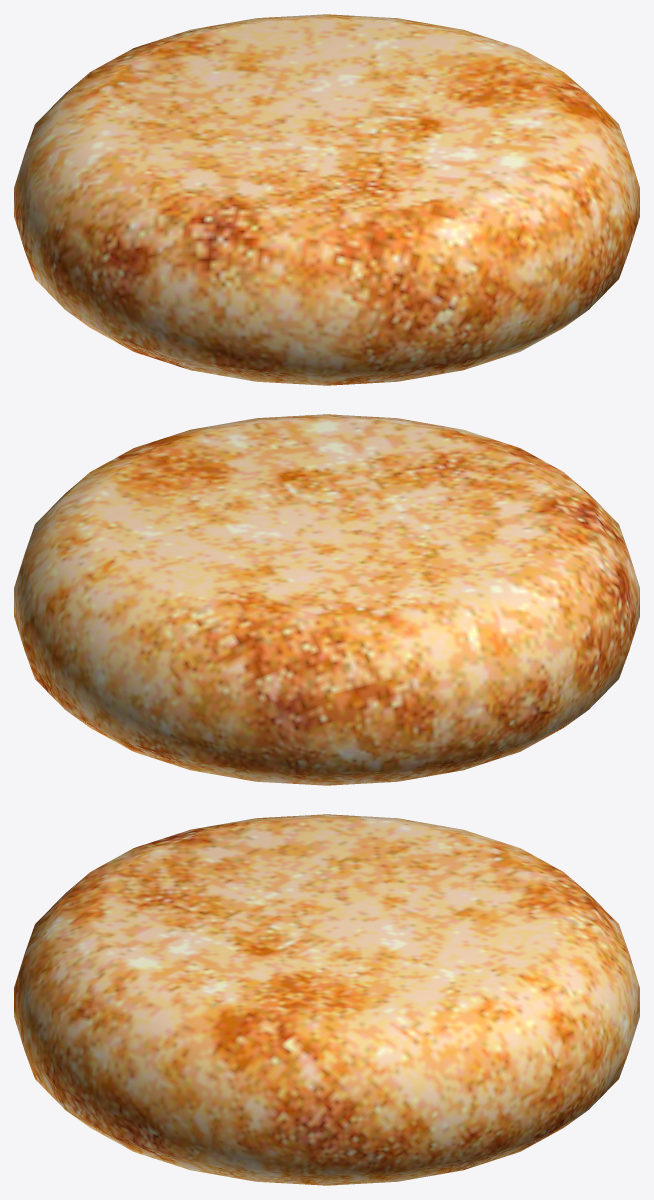
File: VFX_EnglishMuffin.fbx
The picture shows the model from 3 angles, top to bottom: view 1: azimuth 30°, elevation 25°; view 2: azimuth 150°, elevation 25°; view 3: azimuth 270°, elevation 25°; orthographic projection.
Parts seen in each view (by area): view 1: English Muffin; view 2: English Muffin; view 3: English Muffin.
Boxes of the visible parts, box(x1,y1,x2,y2) form: English Muffin: box(14, 14, 639, 385); English Muffin: box(14, 414, 639, 785); English Muffin: box(14, 814, 639, 1185).
Bounding box in the file's own units: 0.1117 × 0.0331 × 0.1117.
